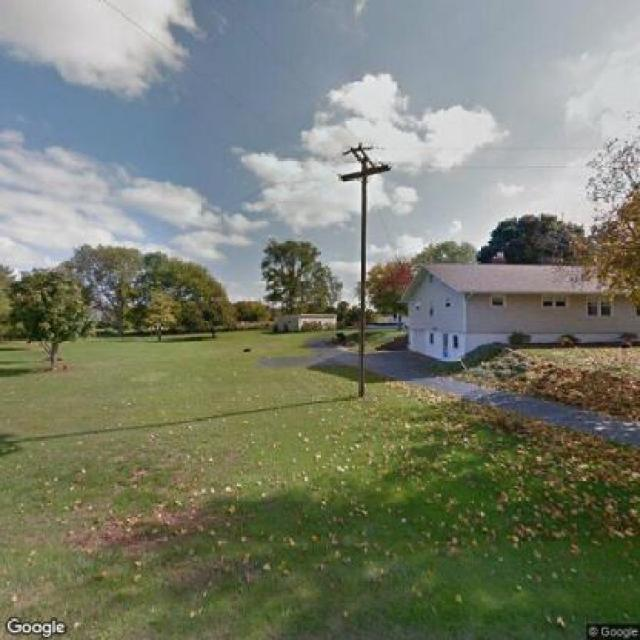pole: (328, 133, 400, 398)
